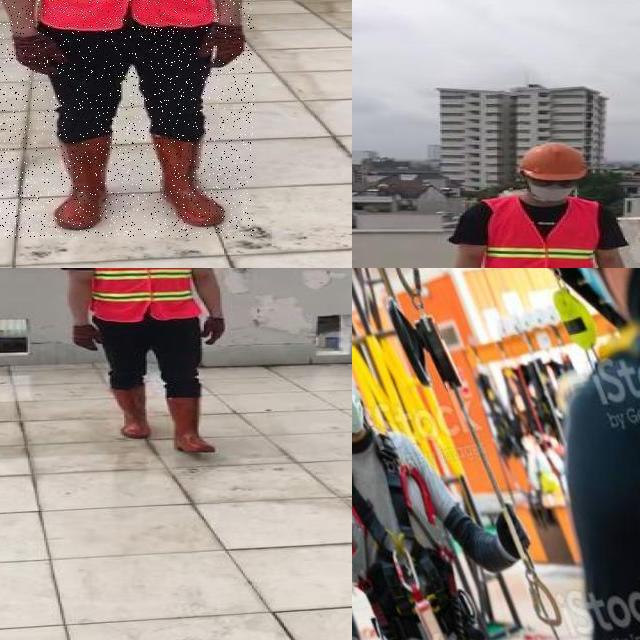Harness: (352, 434, 472, 640)
boots: (154, 134, 222, 228), (51, 136, 112, 229), (163, 396, 211, 452), (113, 387, 151, 437)
face_mask: (524, 172, 580, 205)
glasses: (524, 174, 586, 192)
hand_glove: (72, 325, 104, 351), (202, 318, 224, 344)
head_helmet: (515, 138, 589, 182)
person: (0, 0, 254, 238), (55, 268, 235, 458), (434, 134, 640, 268)
vest: (479, 196, 600, 268), (85, 268, 206, 322)
